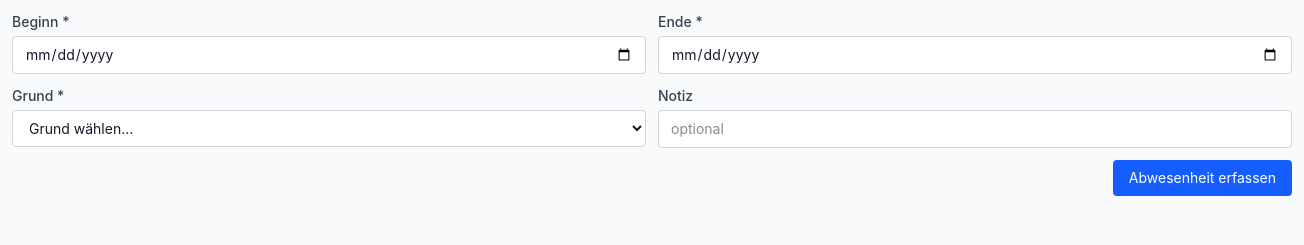
Test: LeaderUnavailabilityForm › rejects a period where end is before start
The image size is (1304, 245).
Type "2026-05-10" into the date field with test id "unavailability-start-date". click: (329, 55)
box: [12, 36, 646, 74]
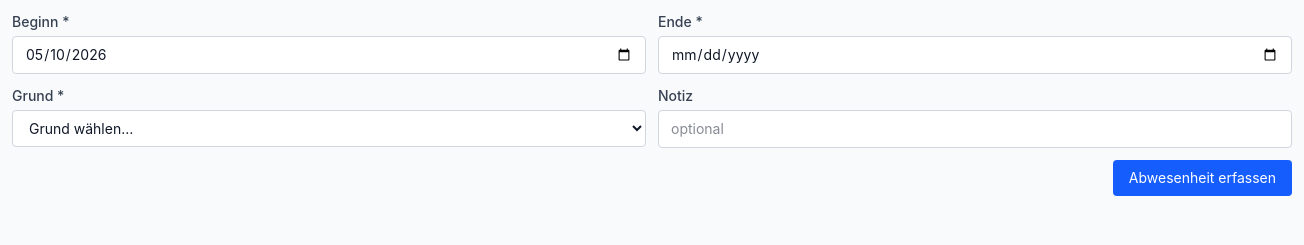
Type "2026-05-01" into the date field with test id "unavailability-end-date". click: (975, 55)
box: [658, 36, 1292, 74]
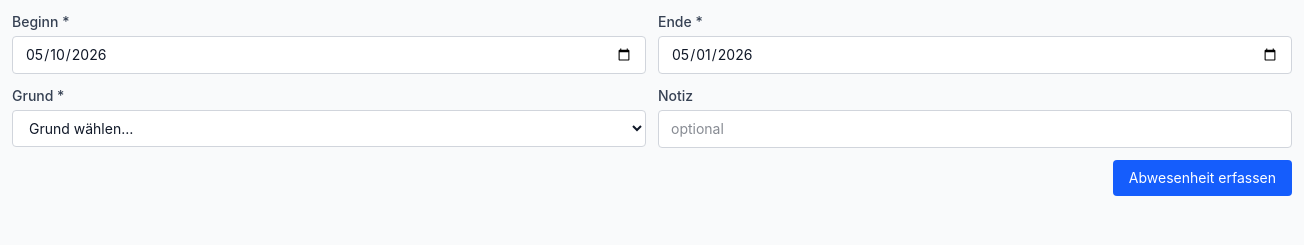
Select "Urlaub" in the dropdown with test id "unavailability-reason-select". click: (329, 128)
box: [12, 110, 646, 147]
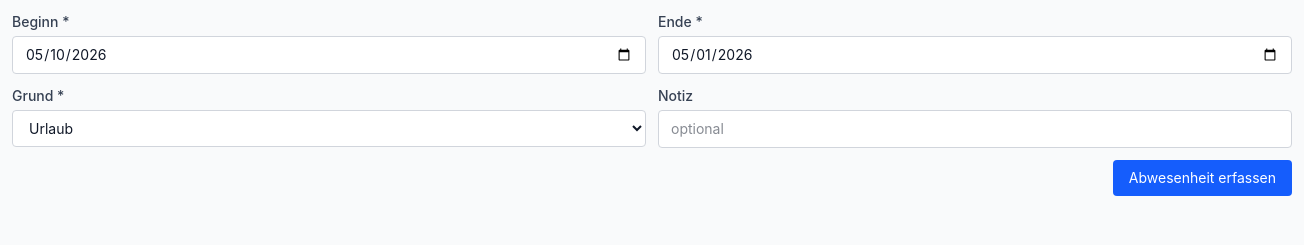
Submit the form from the button with test id "unavailability-submit", box [1113, 160, 1292, 196]
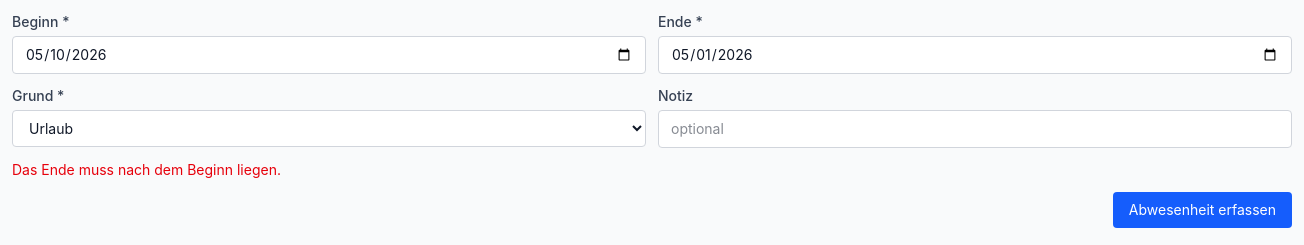
expect the message with test id "unavailability-form-error" reads "Das Ende muss nach dem Beginn liegen.": met, box [12, 161, 281, 178]
